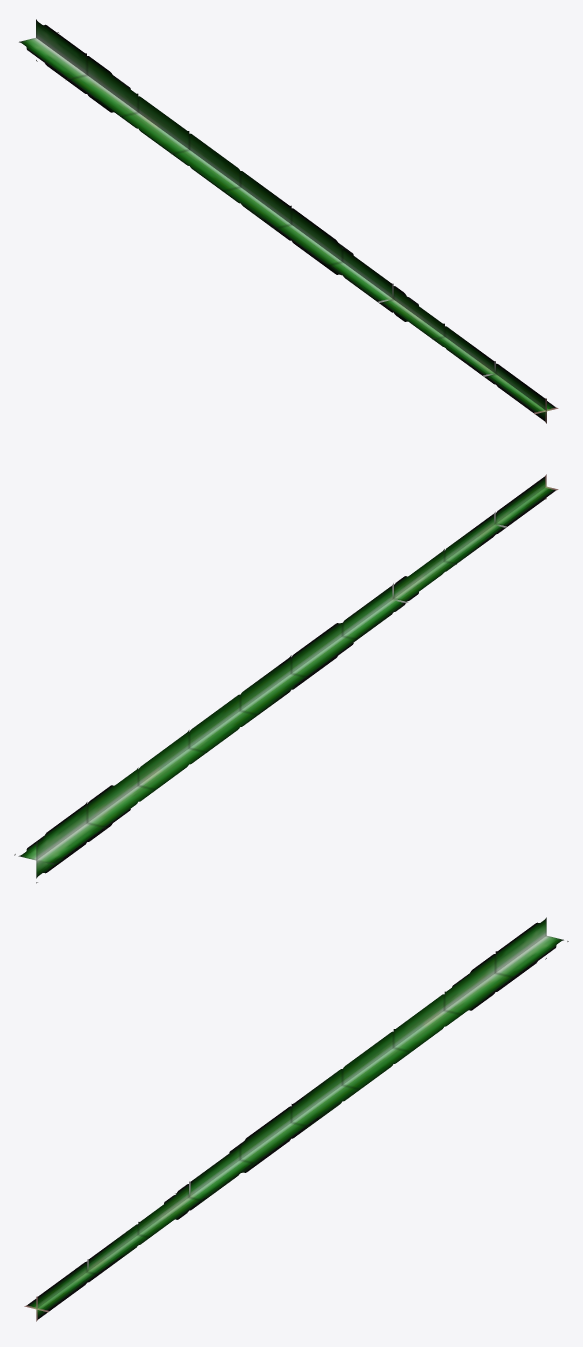
3 renders of one model, top to bottom at view 1: azimuth 30°, elevation 25°; view 2: azimuth 150°, elevation 25°; view 3: azimuth 330°, elevation 25°, orthographic.
Visible parts, largest first — view 1: T1L5M004_3; view 2: T1L5M004_3; view 3: T1L5M004_3.
Boxes of the visible parts, x1=… form: T1L5M004_3: x1=19, y1=19, x2=558, y2=423; T1L5M004_3: x1=14, y1=474, x2=558, y2=883; T1L5M004_3: x1=24, y1=917, x2=568, y2=1321.
Size of the model in its own units: 0.2002 by 0.2002 by 4.
